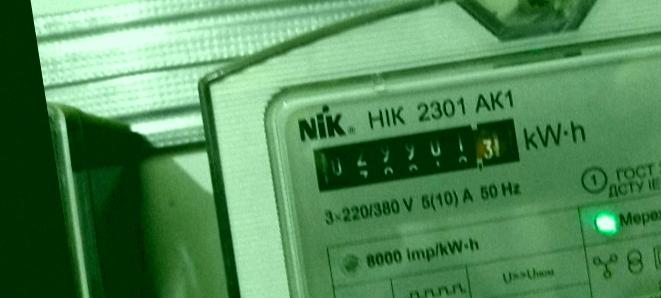0: (423, 131, 442, 158), (324, 152, 343, 176)
1: (450, 127, 466, 153)
2: (349, 143, 368, 167)
3: (477, 135, 495, 160)
9: (400, 137, 415, 161), (375, 140, 390, 162)
screen: (301, 107, 529, 202)
